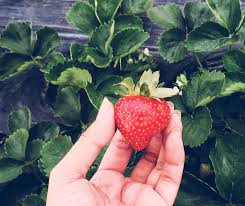ripe: (110, 91, 180, 153)
